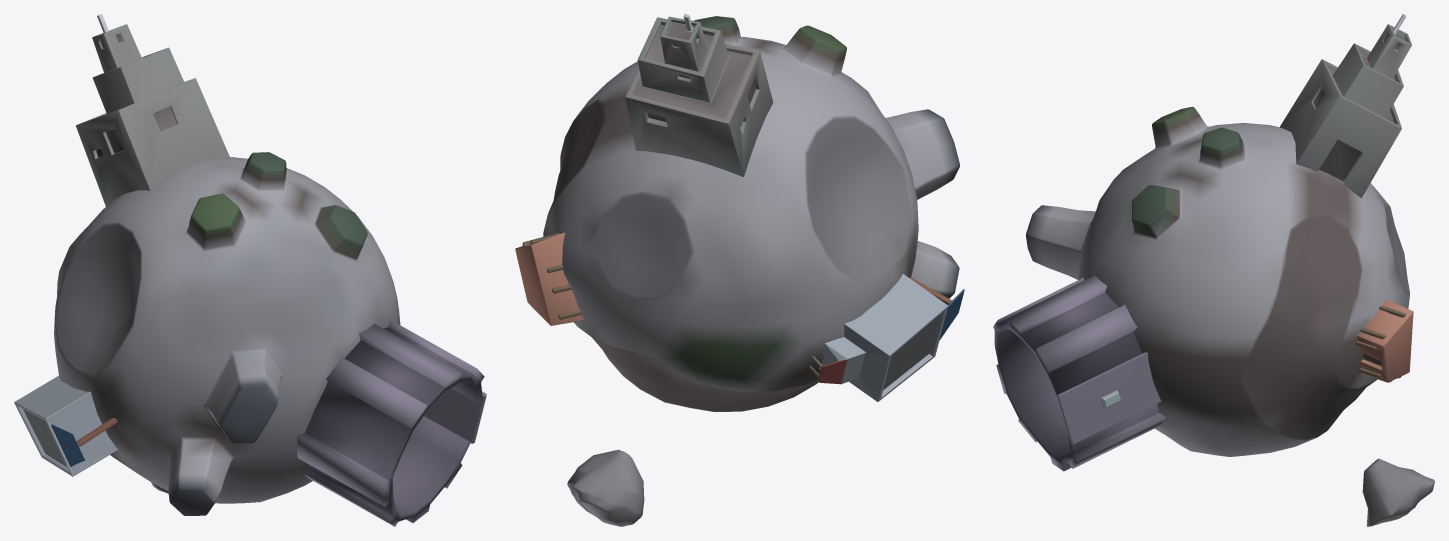
The model's file is Planet B Render.fbx.
3 views of the same model, side by side, from view 1: azimuth 30°, elevation 25°; view 2: azimuth 150°, elevation 25°; view 3: azimuth 270°, elevation 25° (orthographic). The views are drawn at different scales.
Visible parts, largest first — view 1: Planet, Wall, Tallboi, Building 1, Door; view 2: Planet, Tallboi, Building 1, Cone, Small House; view 3: Planet, Wall, Tallboi, Door, Small House, Cone.
Boxes of the visible parts, left/top/right/bottom form: Planet: left=54, top=152, right=400, bottom=515; Wall: left=297, top=319, right=484, bottom=526; Tallboi: left=76, top=14, right=229, bottom=206; Building 1: left=14, top=375, right=117, bottom=476; Door: left=424, top=388, right=486, bottom=443; Planet: left=543, top=16, right=959, bottom=411; Tallboi: left=625, top=14, right=773, bottom=176; Building 1: left=809, top=274, right=964, bottom=401; Cone: left=567, top=449, right=644, bottom=526; Small House: left=515, top=232, right=583, bottom=325; Planet: left=1026, top=106, right=1409, bottom=456; Wall: left=993, top=275, right=1165, bottom=471; Tallboi: left=1279, top=14, right=1411, bottom=198; Door: left=1057, top=352, right=1161, bottom=444; Small House: left=1355, top=299, right=1413, bottom=382; Cone: left=1362, top=458, right=1434, bottom=526.
Size of the model in its own units: 4709 by 6229 by 5319.
